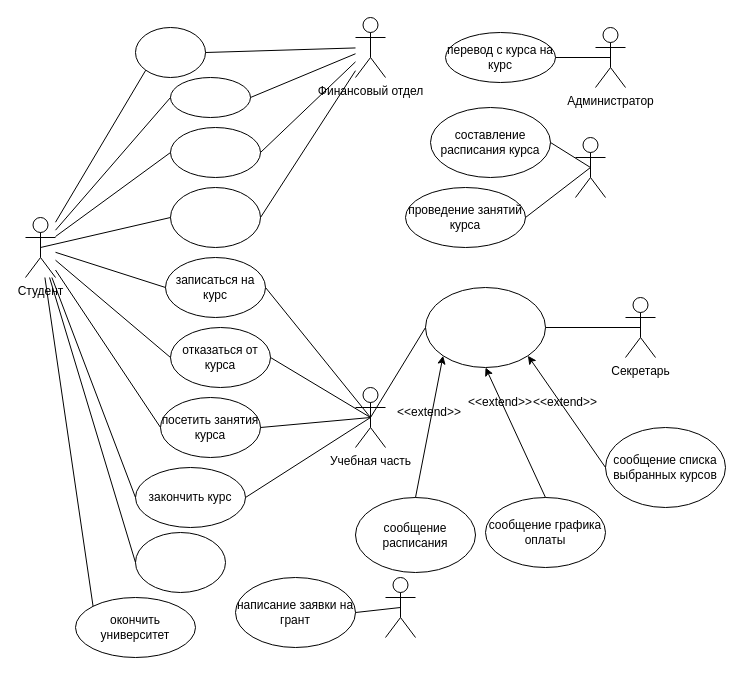
This 743x676 diagram has some shape labels left out. The shapes that lost their labels are listed below. From the top down, each one's centre as x and y in pixels, then its label:
[170,52]: плата за обучение
[210,97]: получение стипендии
[215,152]: получение кредита
[590,167]: Инструктор
[215,217]: переход на бесплатное обучение
[485,327]: Доведение ведома до студентов
[180,562]: отказаться от обучения
[400,607]: Исследователь
